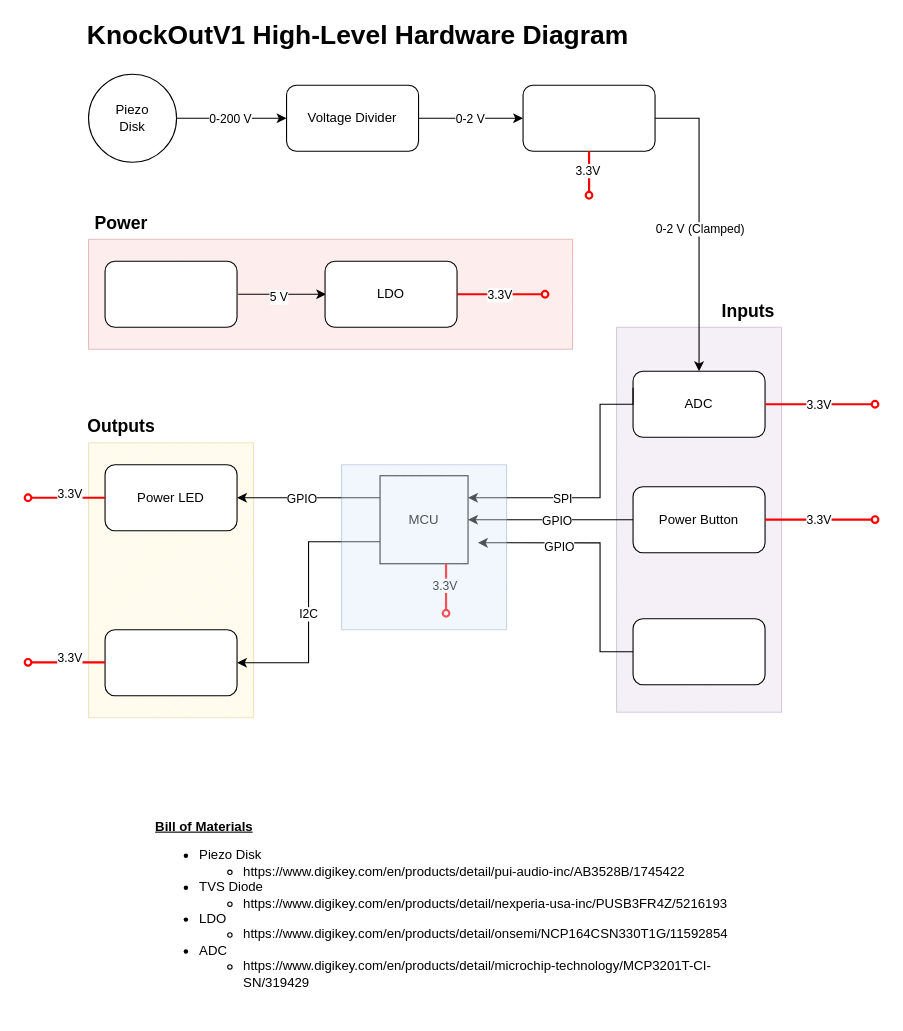
Image size: 903x1031. Some labels were removed from this diagram. The shapes that lost their labels are listed below. From the top down, each one's box as (x1, y1, x2, y2) in pixels, then its label:
(522, 84, 655, 151): TVS Diode
(104, 260, 237, 327): USB-C Input (PD)
(104, 629, 237, 696): Display Out
(632, 618, 765, 685): Toggle Switch
